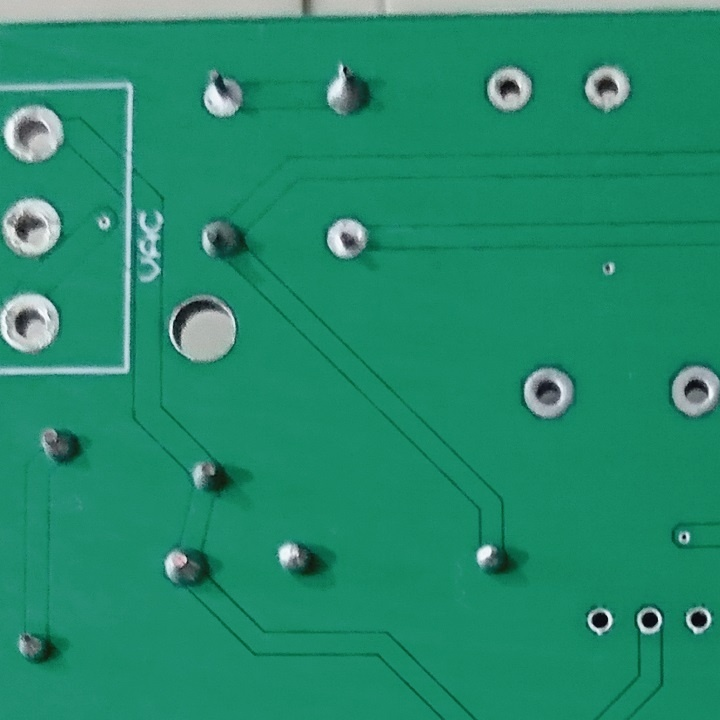F: (1, 100, 73, 166), (1, 287, 64, 360), (1, 197, 67, 263), (521, 363, 580, 423), (667, 363, 720, 422), (577, 60, 633, 113), (484, 62, 536, 116), (196, 68, 246, 120), (321, 211, 371, 263), (630, 603, 668, 638), (583, 602, 618, 638), (681, 603, 715, 638)
